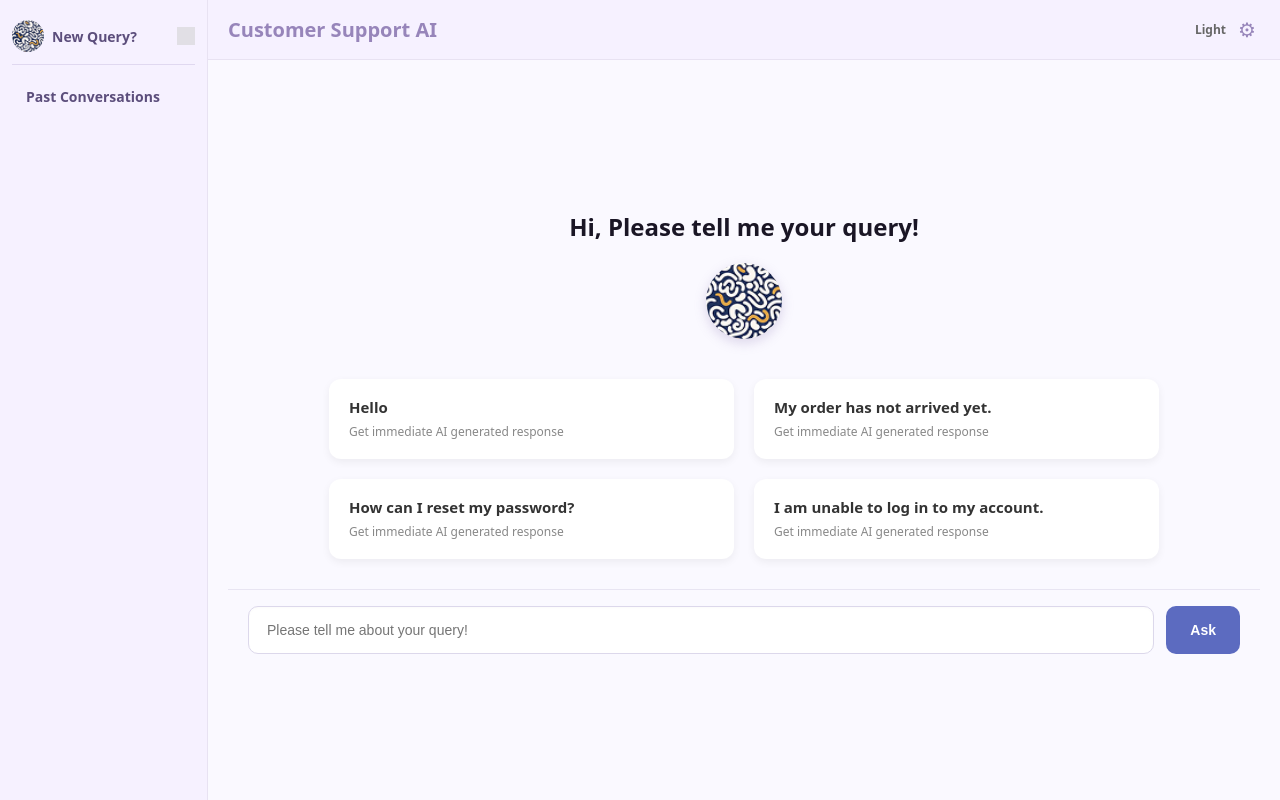
Test: Customer Support AI - Full Test Suite › should show default response for unknown query
The image size is (1280, 800).
In the field with placeholder "Please tell me about your query!": (701, 630) [248, 606, 1154, 654], type "Something random that has no answer"
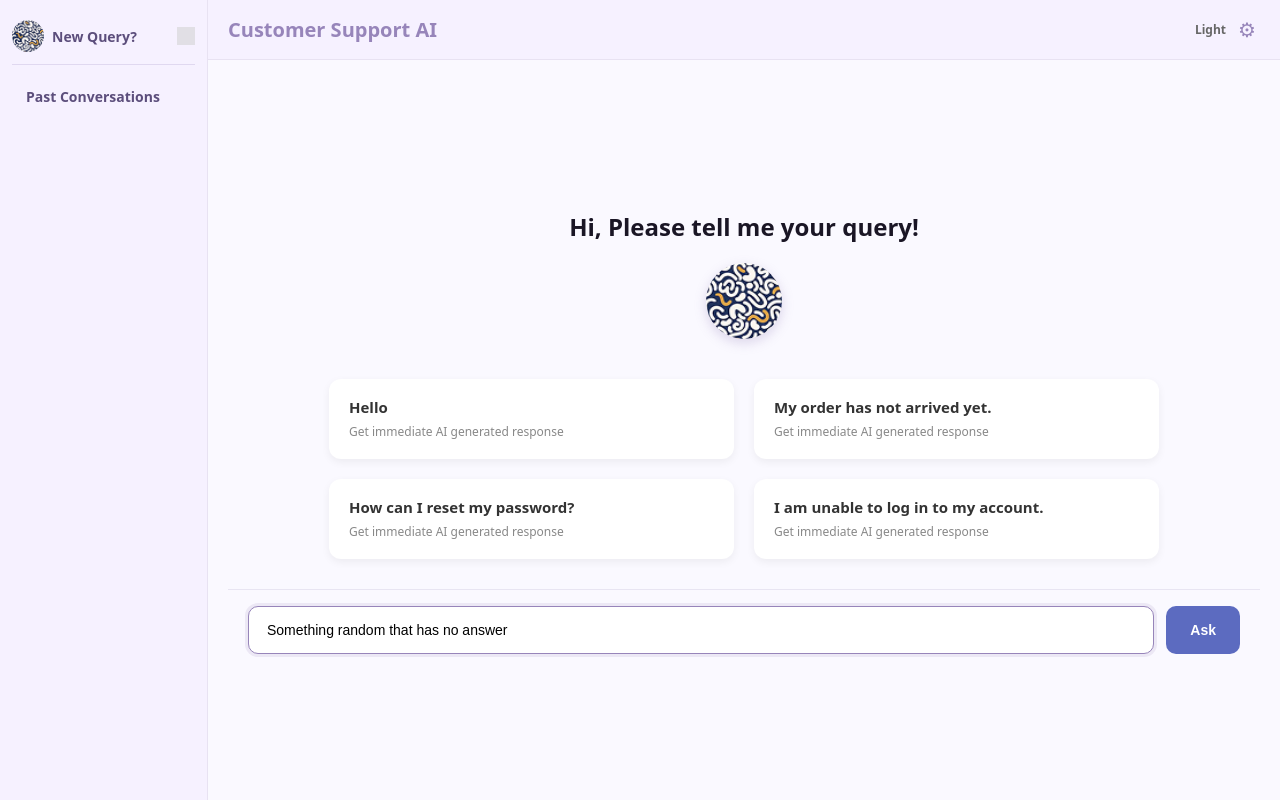
Click the submit button: (1203, 630) [1166, 606, 1240, 654]
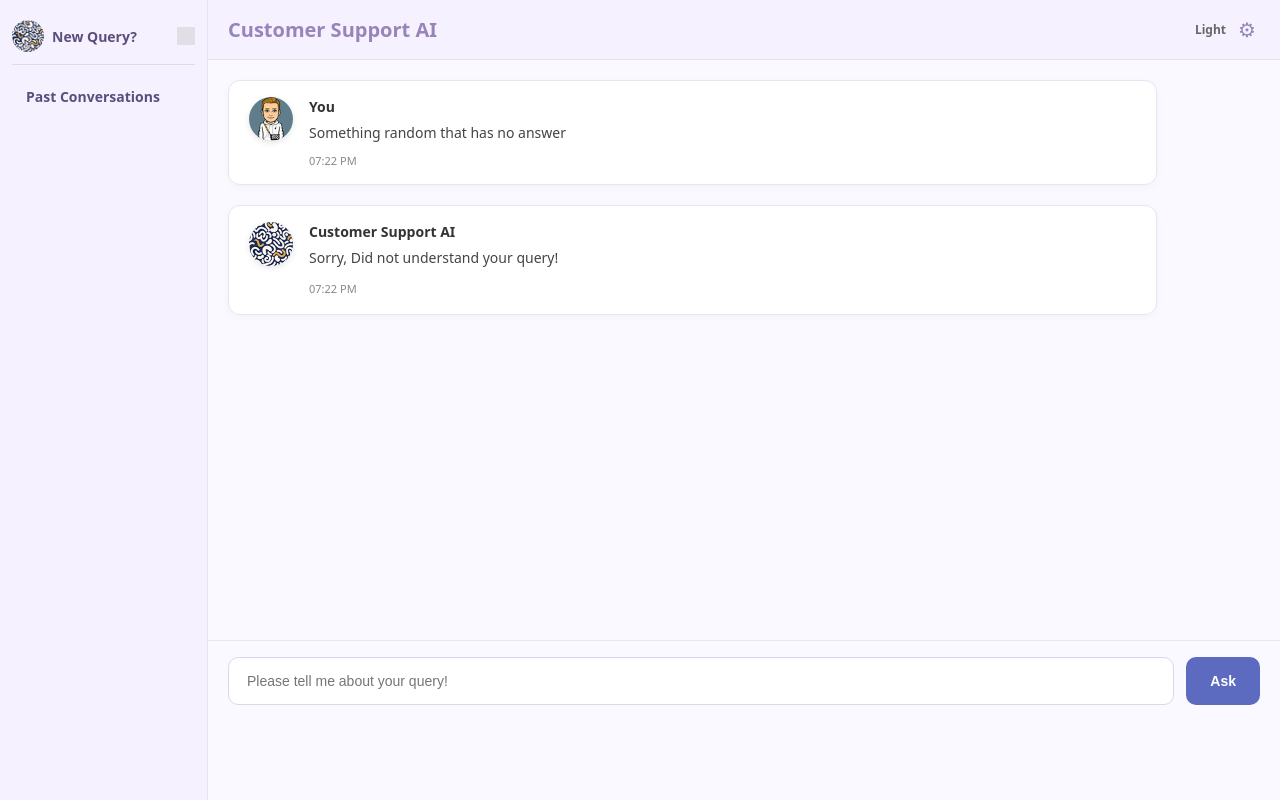
Expected: the text "Sorry, Did not understand your query!" is shown, [309, 248, 558, 267]
